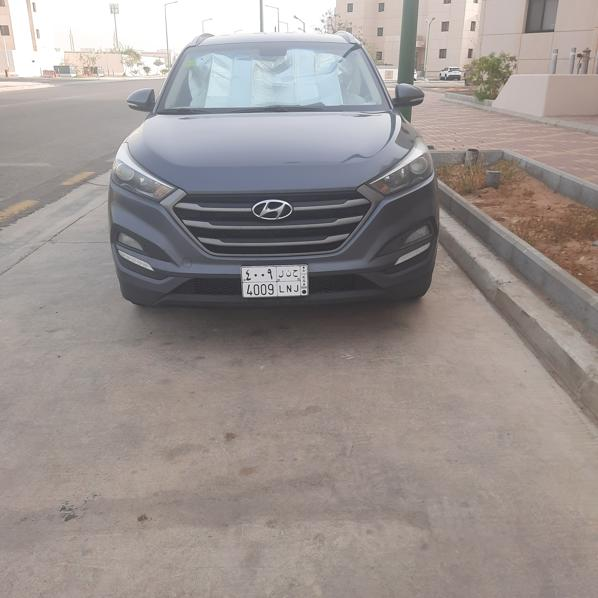numberplate: (241, 265, 310, 297)
